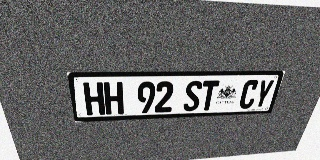2: (155, 81, 174, 113)
9: (137, 81, 156, 113)
C: (238, 80, 260, 109)
H: (83, 82, 105, 115), (103, 82, 124, 115)
S: (183, 81, 203, 111)
T: (199, 80, 220, 111)
Y: (252, 80, 275, 108)
